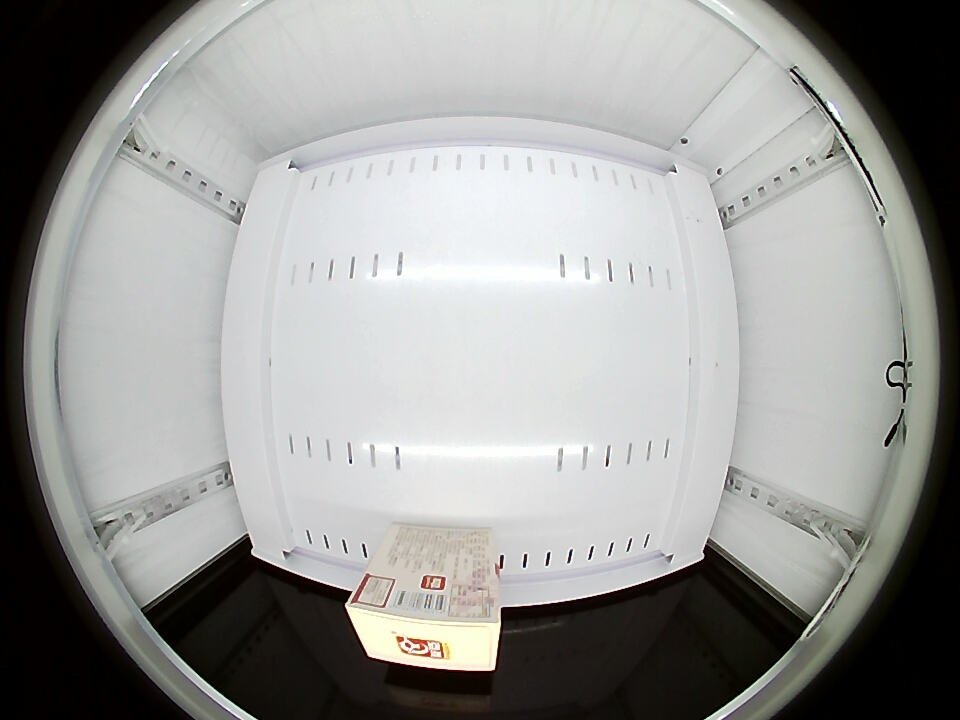rousongbing: (346, 558, 502, 672)
